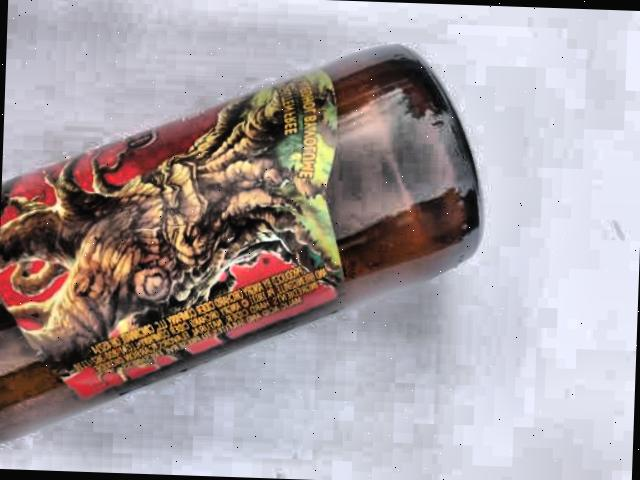Bottles: (0, 13, 535, 470)
